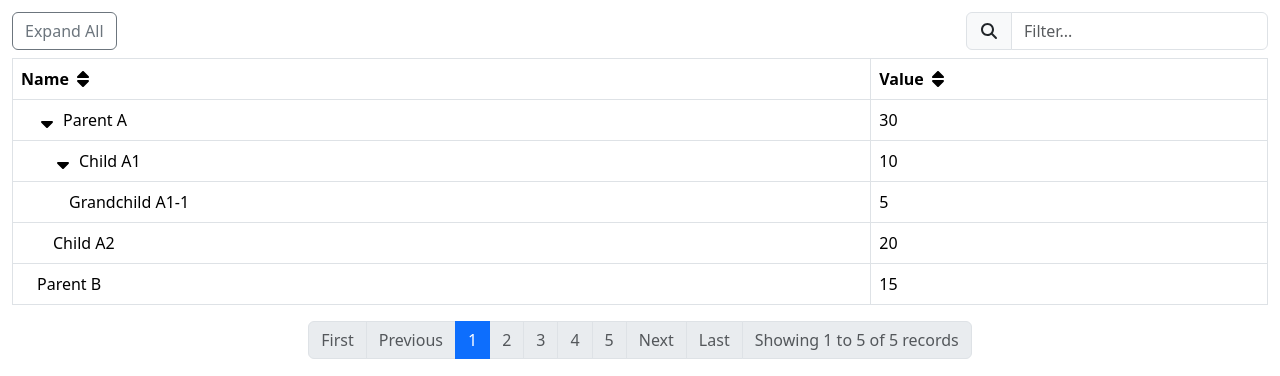
BootstrapTreeTable (final production version) › filter hides non matching rows
Type "XYZ" into the field with placeholder "Filter..." at (1140, 31), box [1011,12,1268,50]
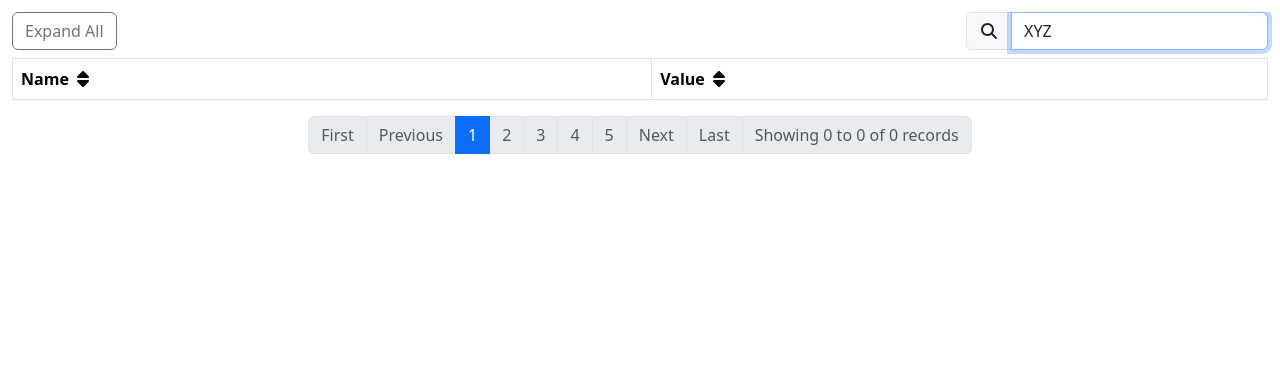
Check: the text "Parent A" is gone
